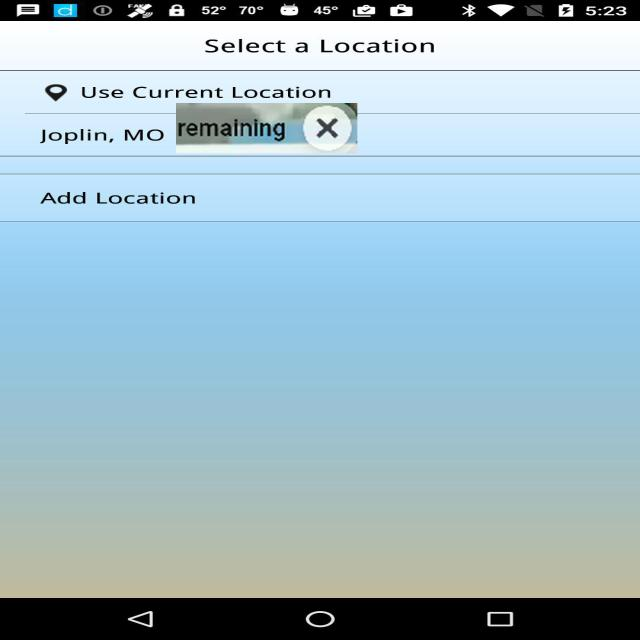misdirection: (176, 103, 357, 153)
